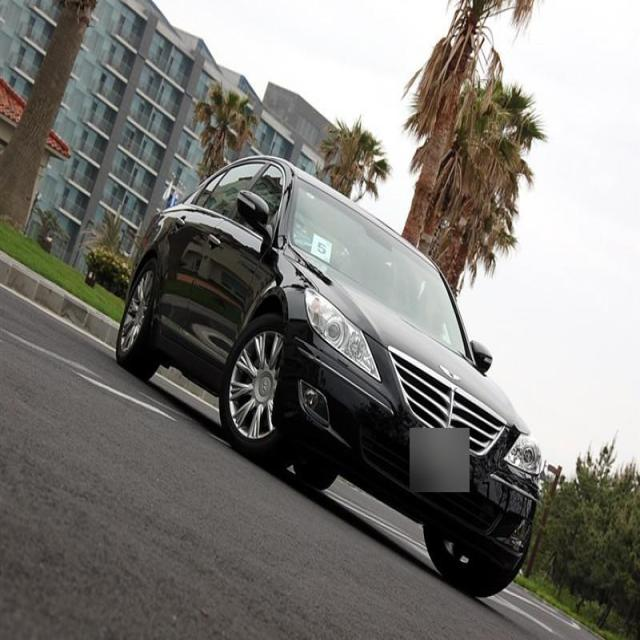front_bumper: (294, 325, 538, 570)
front_glass: (286, 167, 475, 365)
front_left_side_light: (498, 427, 548, 478)
front_left_side_mirror: (468, 337, 498, 372)
front_right_side_door: (170, 154, 292, 412)
front_right_side_light: (304, 278, 382, 385)
front_right_side_mirror: (234, 181, 272, 239)
wheel: (220, 317, 298, 461), (427, 517, 514, 588), (118, 269, 162, 370)
